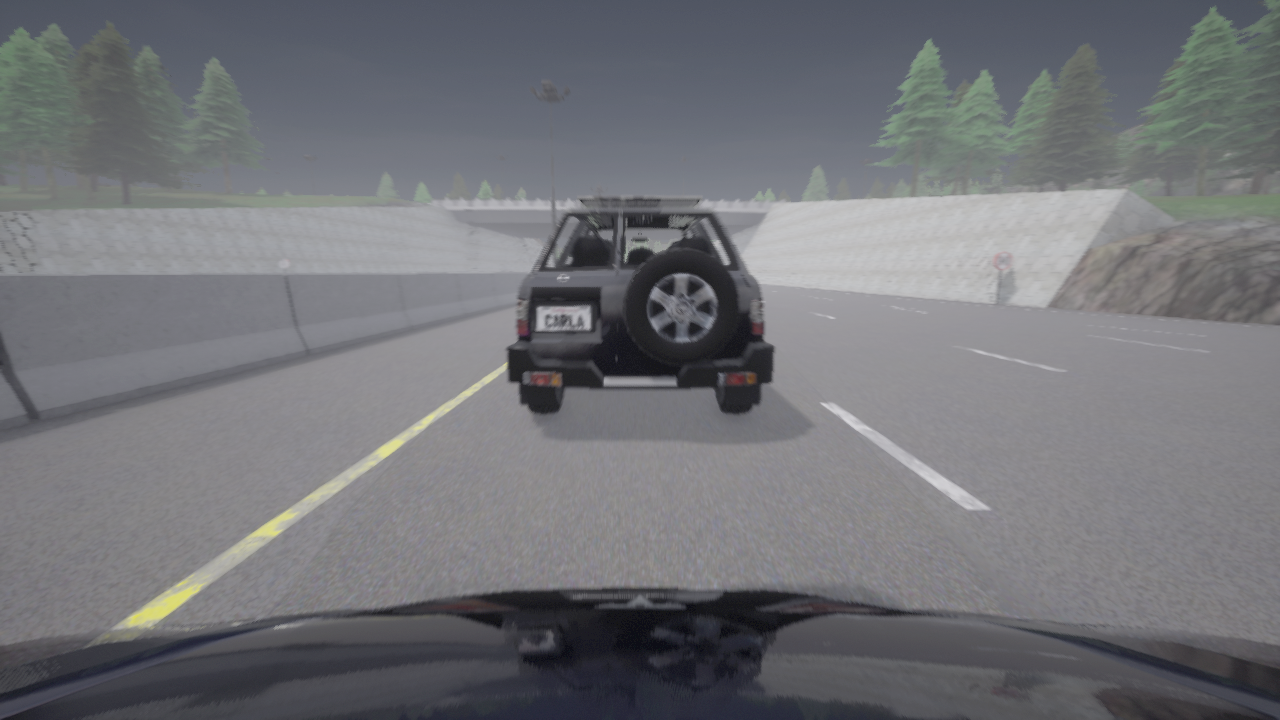cyclist: (0, 588, 1279, 719), (506, 196, 773, 413)
